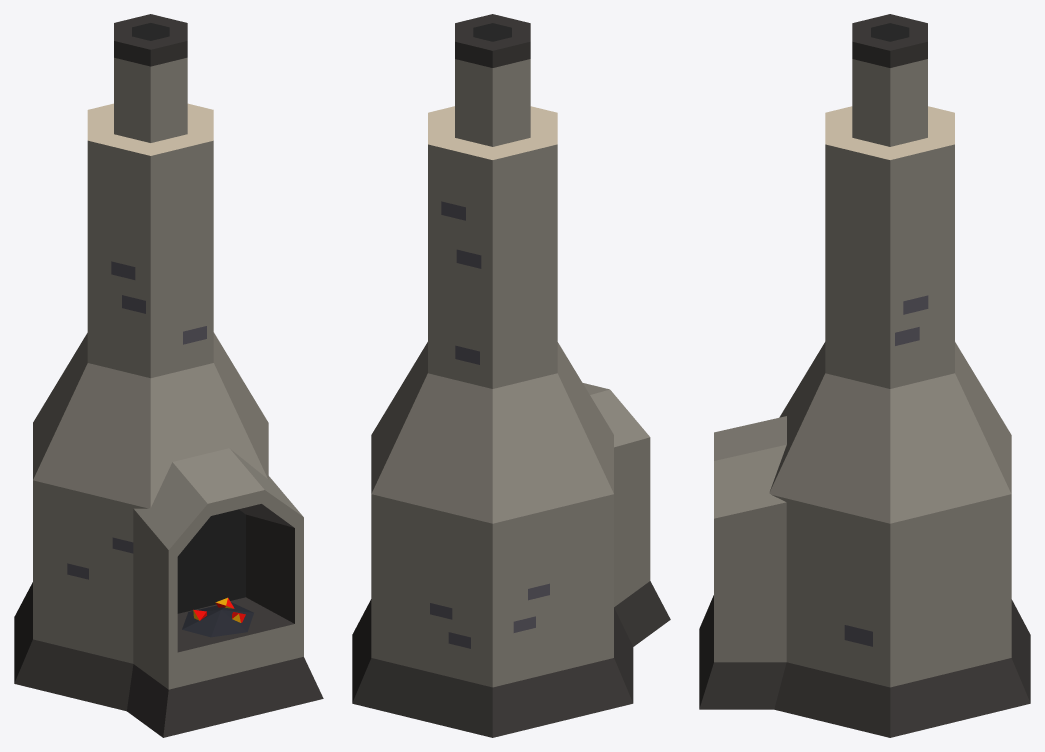
File: town_blacksmith.glb
The picture shows the model from 3 angles, left to right: view 1: azimuth 30°, elevation 25°; view 2: azimuth 150°, elevation 25°; view 3: azimuth 270°, elevation 25°; orthographic projection. The views are drawn at different scales.
Parts seen in each view (by area): view 1: TB_Bd_Blacksmith; view 2: TB_Bd_Blacksmith; view 3: TB_Bd_Blacksmith.
Boxes of the visible parts, x1=… form: TB_Bd_Blacksmith: x1=14, y1=14, x2=323, y2=737; TB_Bd_Blacksmith: x1=352, y1=14, x2=670, y2=737; TB_Bd_Blacksmith: x1=699, y1=14, x2=1030, y2=737.
Bounding box in the file's own units: 2.68 × 5.8 × 2.74.
1 material, 1 textured.
